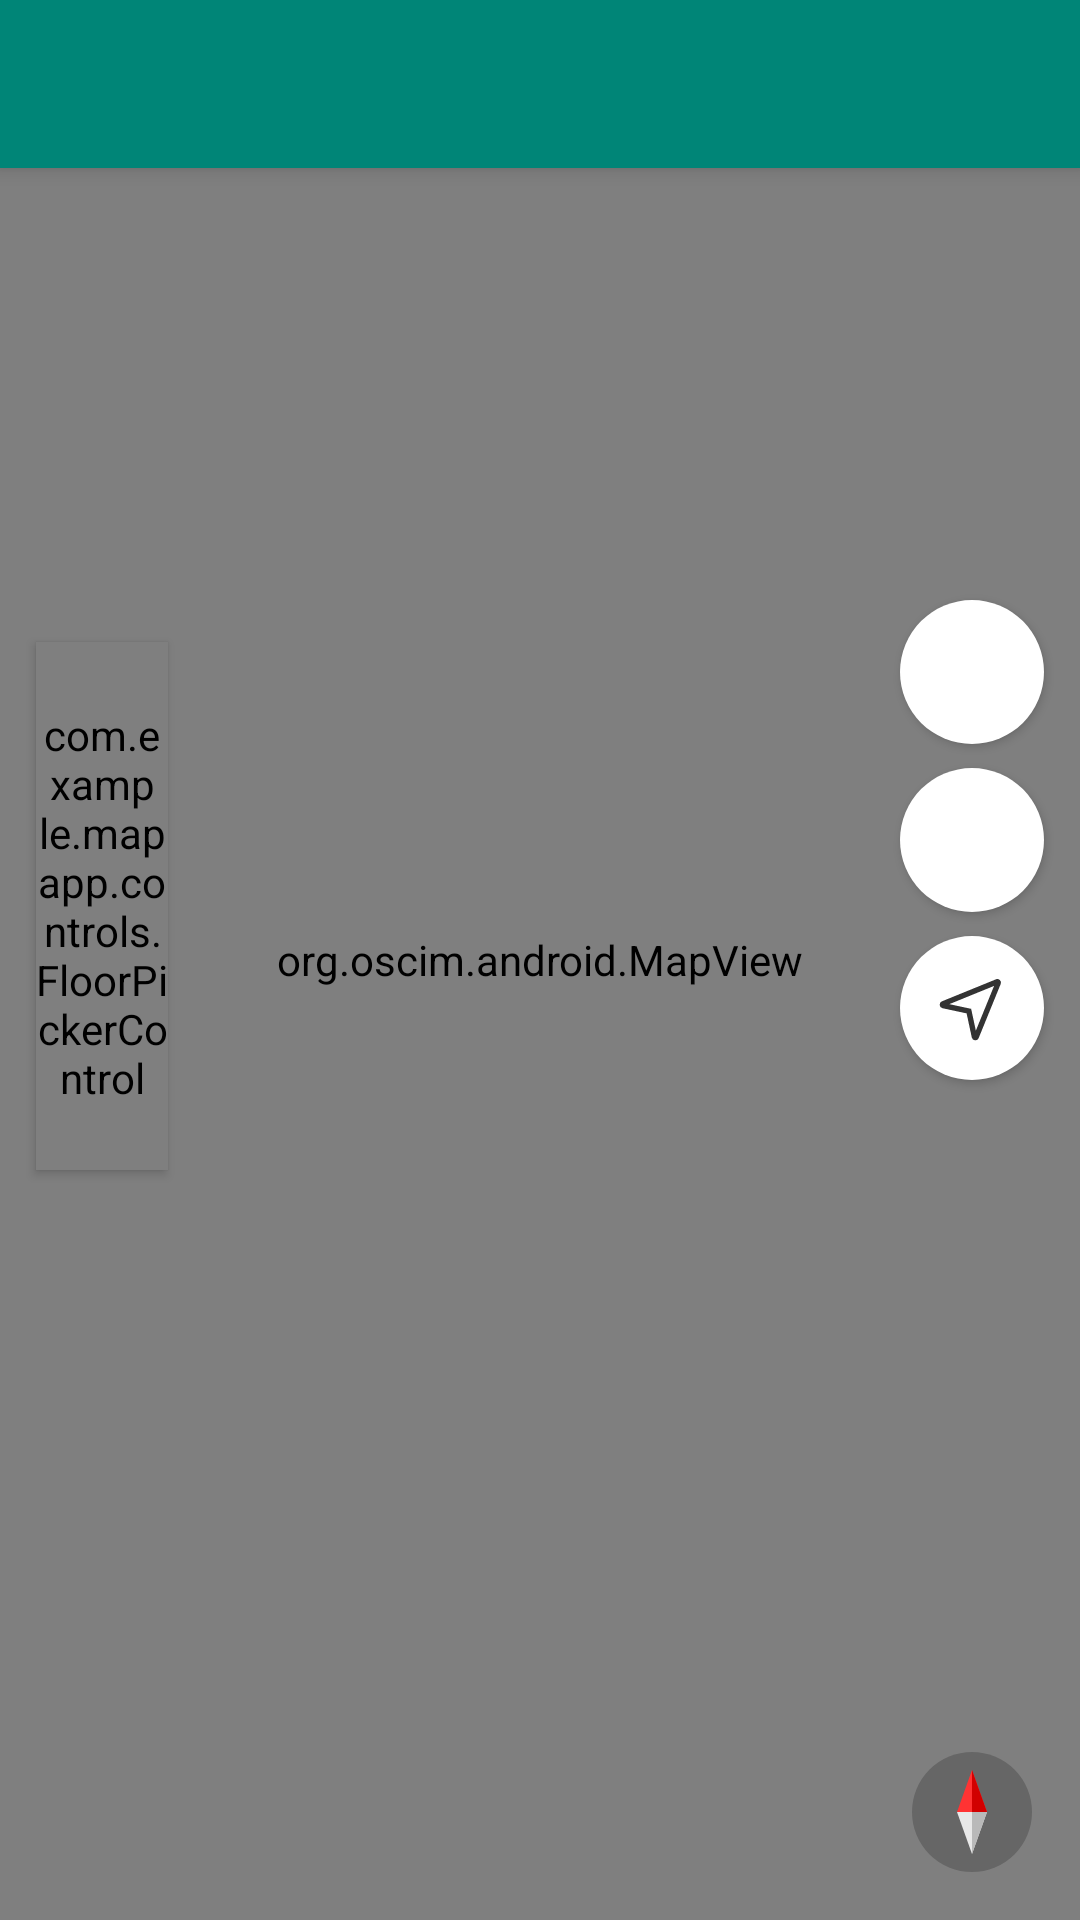

Named icons in this screenshot (1080w x 1920h) and their bounding boxes, (x1, y1, x2, y2):
compass: (912, 1752, 1032, 1872)
geoposition: (900, 936, 1044, 1080)
